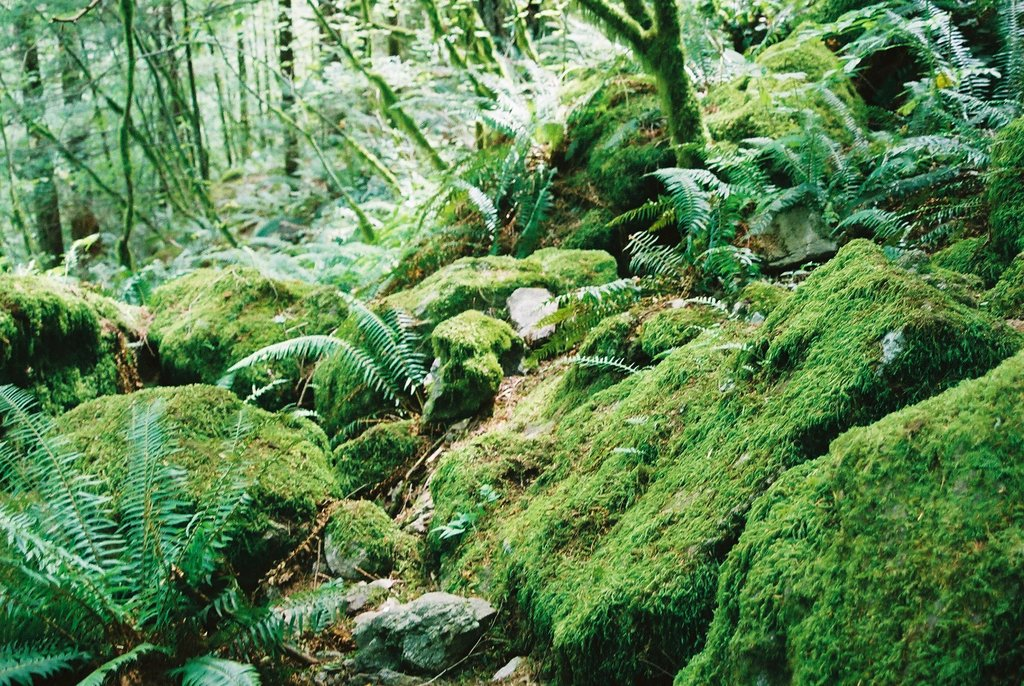Tree: (0, 0, 712, 304)
